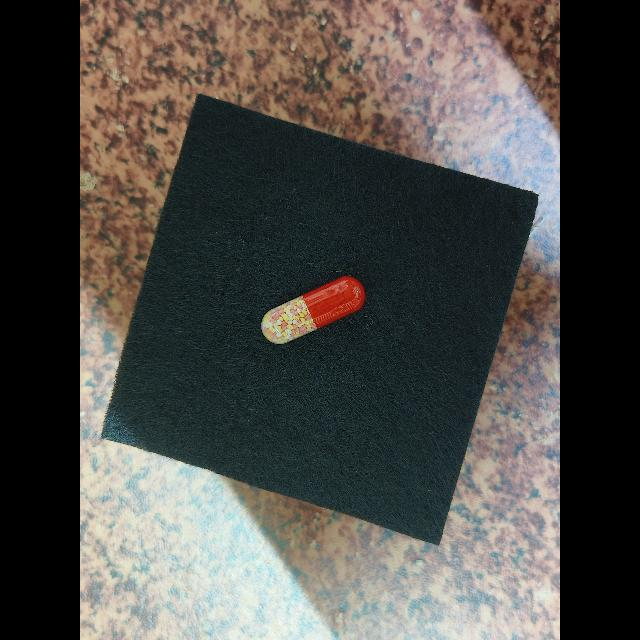Intact Capsule: (261, 276, 365, 344)
